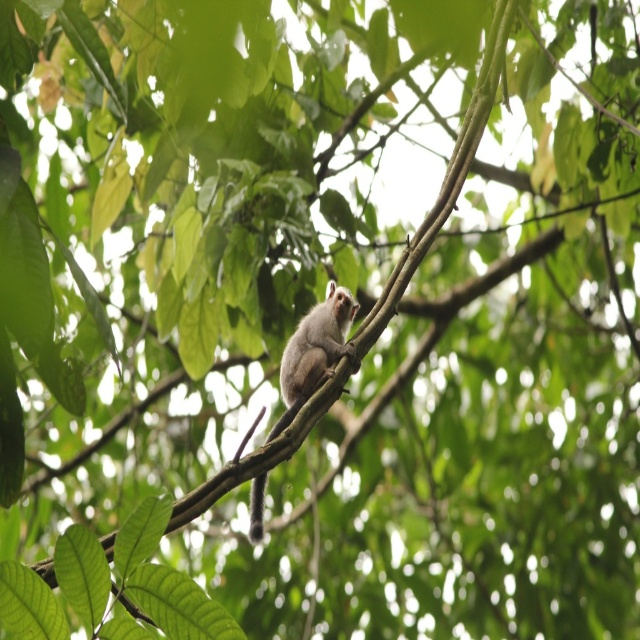Monkey: (250, 280, 362, 543)
